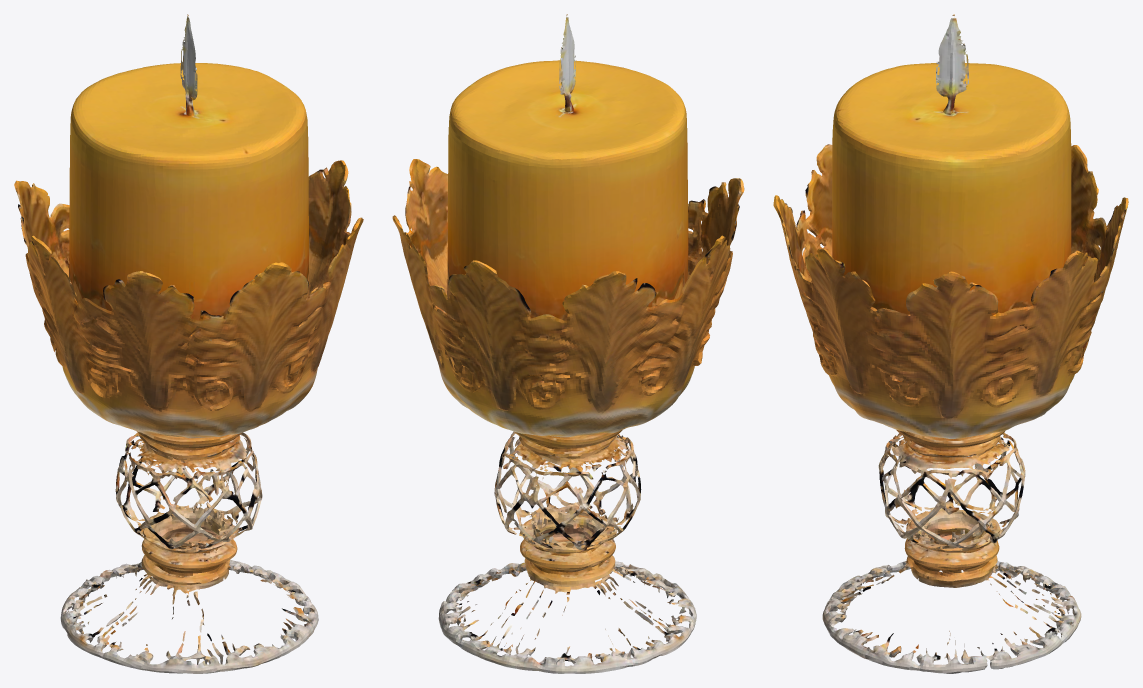
The model's file is Meshy_AI_bougie_candle_0327215731_texture.glb.
The picture shows the model from 3 angles, left to right: view 1: azimuth 30°, elevation 25°; view 2: azimuth 150°, elevation 25°; view 3: azimuth 270°, elevation 25°; orthographic projection.
Parts seen in each view (by area): view 1: output; view 2: output; view 3: output.
Part boxes in pixels (x1=…): output: x1=14, y1=14, x2=363, y2=673; output: x1=392, y1=14, x2=744, y2=673; output: x1=773, y1=14, x2=1128, y2=673.
Bounding box in the file's own units: 0.994 × 1.86 × 0.9862.
1 material, 1 textured.
